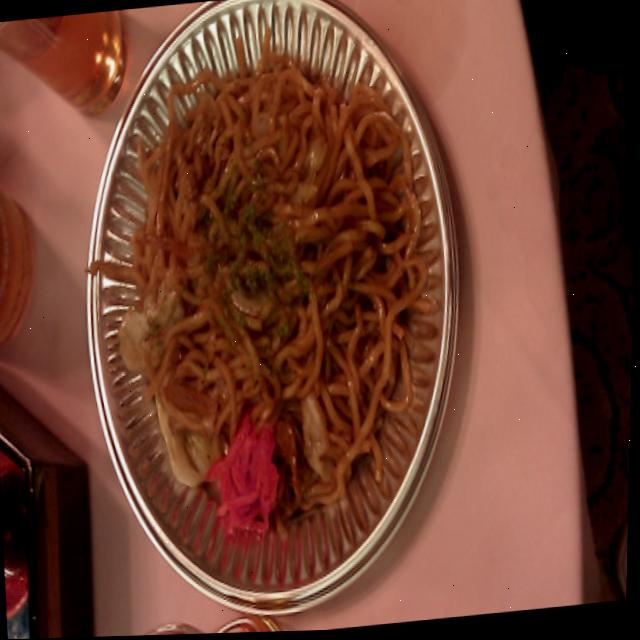面条主食: (56, 0, 396, 638)
